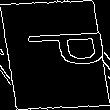P_E: (6, 34, 104, 76)
